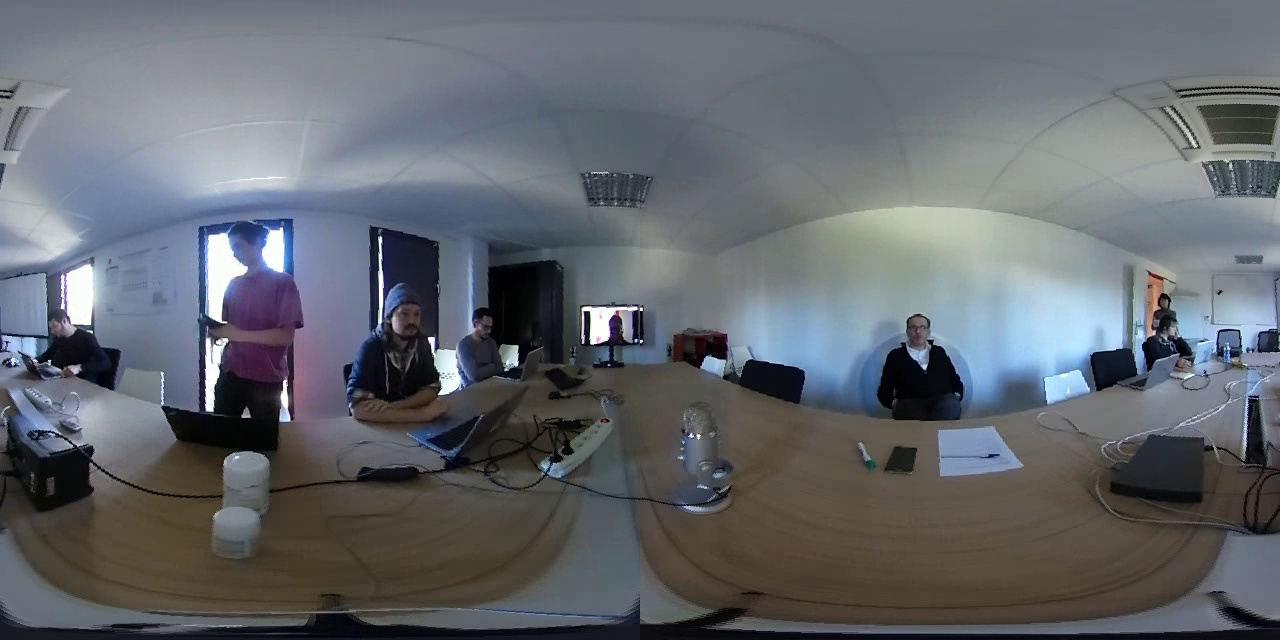person: (198, 212, 308, 406), (349, 264, 444, 416), (879, 297, 964, 418), (453, 292, 517, 388), (32, 300, 102, 379), (1147, 312, 1192, 364), (586, 306, 646, 344), (1141, 282, 1185, 315)
